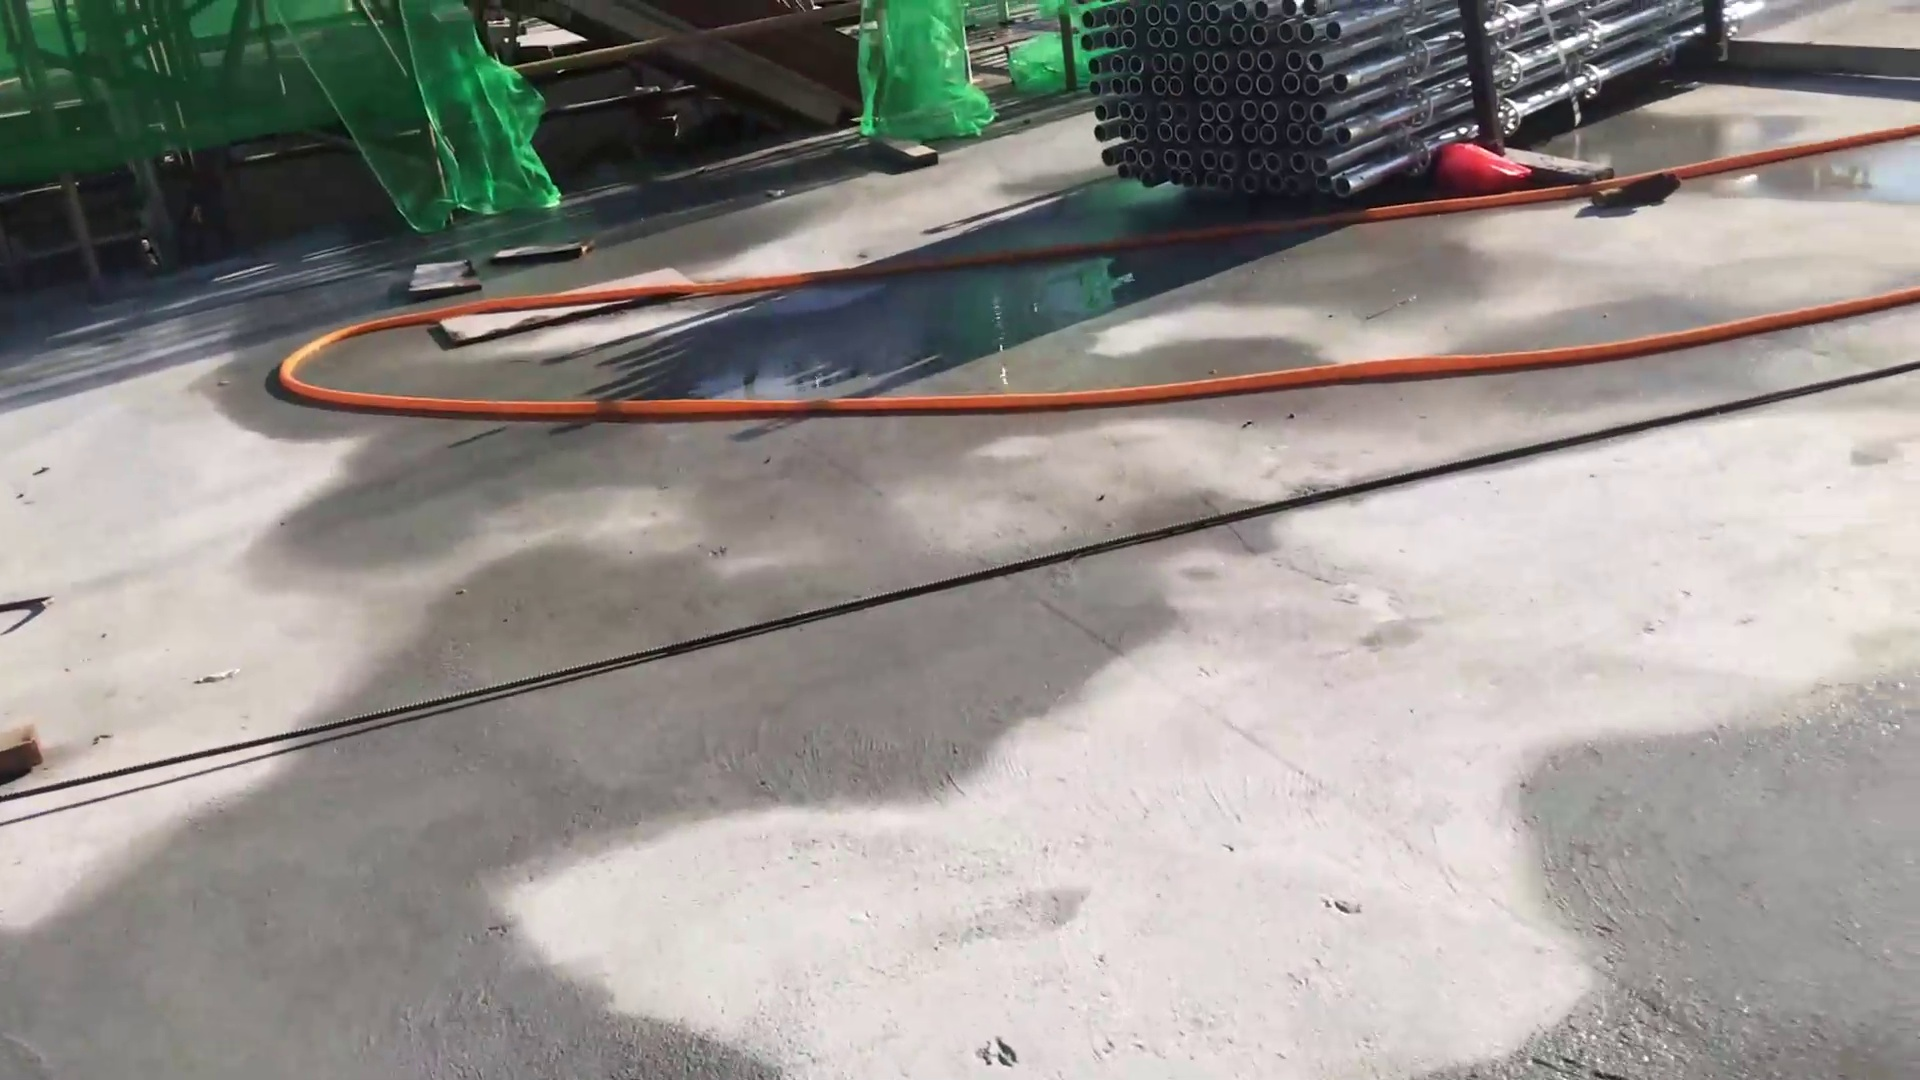scaffold: (1052, 9, 1811, 233)
